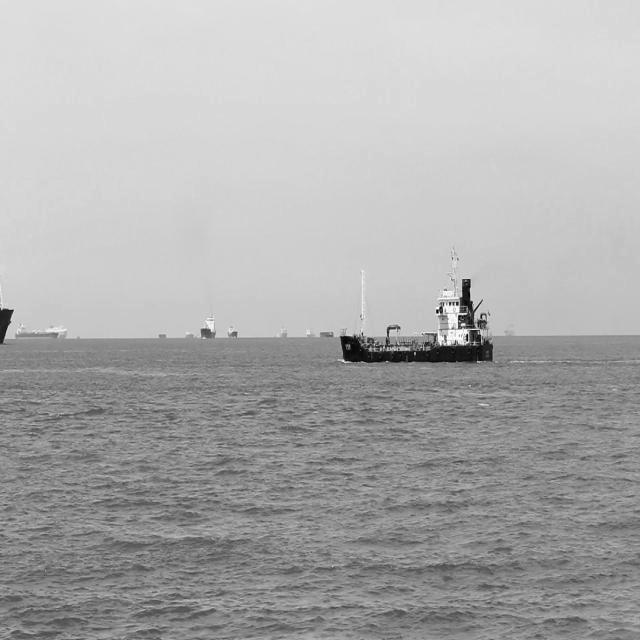ship: (340, 250, 498, 367), (13, 318, 69, 343), (198, 312, 219, 341), (504, 317, 518, 338), (318, 326, 336, 342), (276, 323, 290, 343), (226, 322, 239, 341), (154, 328, 168, 342), (304, 324, 314, 341), (184, 330, 194, 343)
